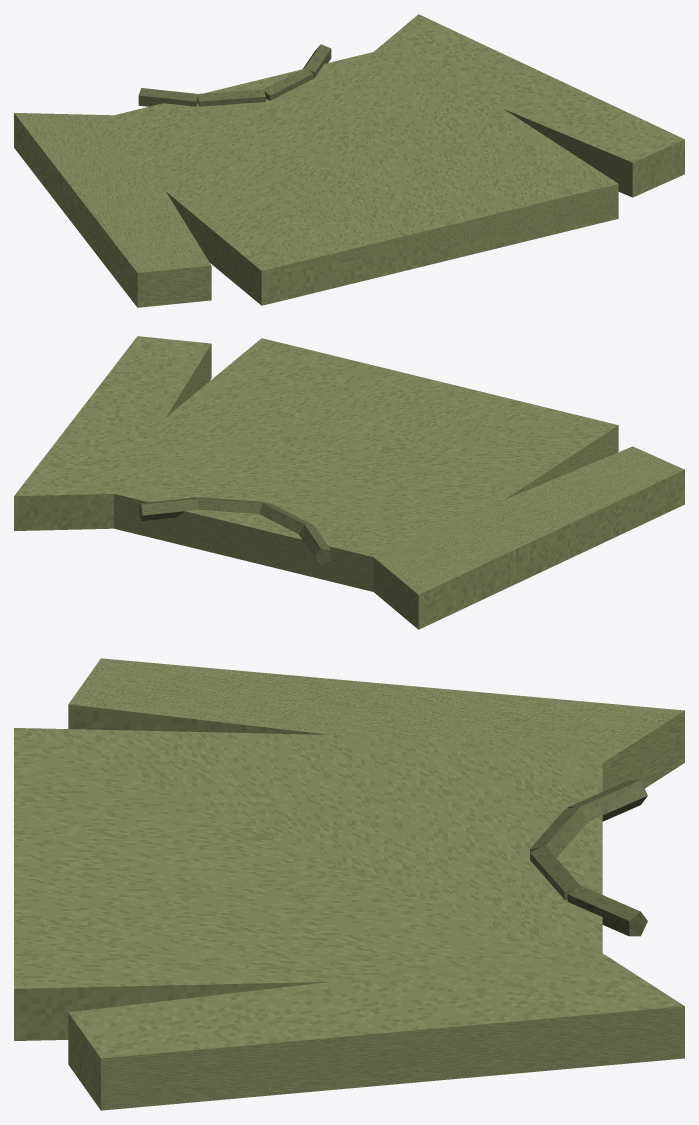
File: thermal_shirt.glb
The picture shows the model from 3 angles, top to bottom: view 1: azimuth 30°, elevation 25°; view 2: azimuth 150°, elevation 25°; view 3: azimuth 270°, elevation 25°; orthographic projection. The views are drawn at different scales.
Parts seen in each view (by area): view 1: block_shirt torso, block_sleeve or strap -1, block_sleeve or strap 1, block_bound collar 1, block_bound collar 0, block_bound collar 2, block_bound collar 3; view 2: block_shirt torso, block_sleeve or strap -1, block_sleeve or strap 1, block_bound collar 3, block_bound collar 2, block_bound collar 0, block_bound collar 1; view 3: block_shirt torso, block_sleeve or strap 1, block_sleeve or strap -1, block_bound collar 3, block_bound collar 0, block_bound collar 1, block_bound collar 2.
Part boxes in pixels (x1,y1,x2,y2): block_shirt torso: [83, 44, 618, 305]; block_sleeve or strap -1: [14, 113, 211, 307]; block_sleeve or strap 1: [372, 14, 684, 197]; block_bound collar 1: [197, 89, 265, 106]; block_bound collar 0: [138, 88, 198, 106]; block_bound collar 2: [262, 68, 313, 100]; block_bound collar 3: [303, 44, 331, 77]; block_shirt torso: [83, 338, 618, 591]; block_sleeve or strap -1: [371, 446, 684, 629]; block_sleeve or strap 1: [14, 336, 211, 530]; block_bound collar 3: [138, 497, 198, 520]; block_bound collar 2: [198, 497, 265, 513]; block_bound collar 0: [299, 524, 331, 564]; block_bound collar 1: [259, 503, 313, 533]; block_shirt torso: [14, 728, 602, 1040]; block_sleeve or strap 1: [68, 950, 684, 1110]; block_sleeve or strap -1: [68, 658, 684, 791]; block_bound collar 3: [567, 885, 647, 936]; block_bound collar 0: [567, 780, 647, 821]; block_bound collar 1: [530, 806, 588, 857]; block_bound collar 2: [530, 845, 579, 899].
Bounding box in the file's own units: 0.46 × 0.0347 × 0.326.
1 material, 1 textured.
